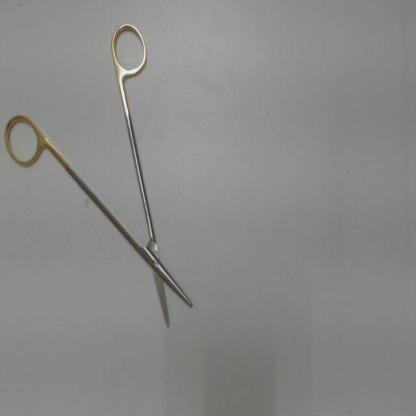7 Metzenbaum Scissors: (2, 19, 198, 334)
